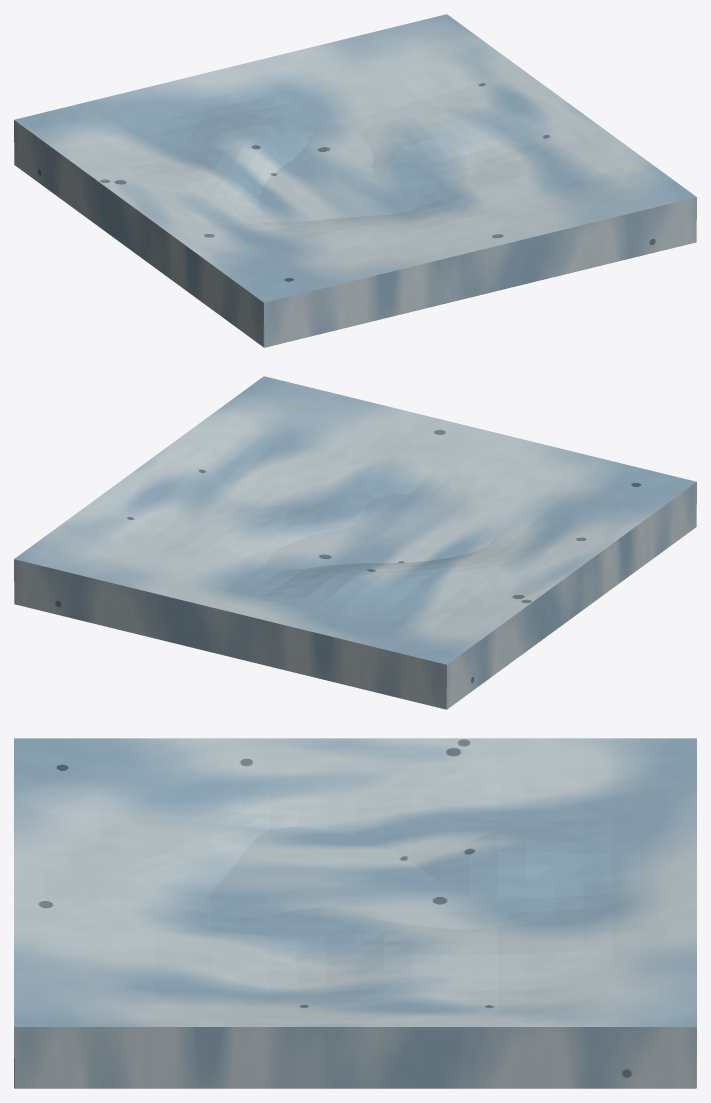
Rendered from floor_snow_a.glb.
The picture shows the model from 3 angles, top to bottom: view 1: azimuth 30°, elevation 25°; view 2: azimuth 150°, elevation 25°; view 3: azimuth 270°, elevation 25°; orthographic projection. The views are drawn at different scales.
Parts seen in each view (by area): view 1: floor_snow_a; view 2: floor_snow_a; view 3: floor_snow_a.
Boxes of the visible parts, box(x1,y1,x2,y2) form: floor_snow_a: box(14, 14, 696, 347); floor_snow_a: box(14, 376, 696, 709); floor_snow_a: box(14, 738, 696, 1088).
Bounding box in the file's own units: 1 × 0.1 × 1.
1 material, 1 textured.
